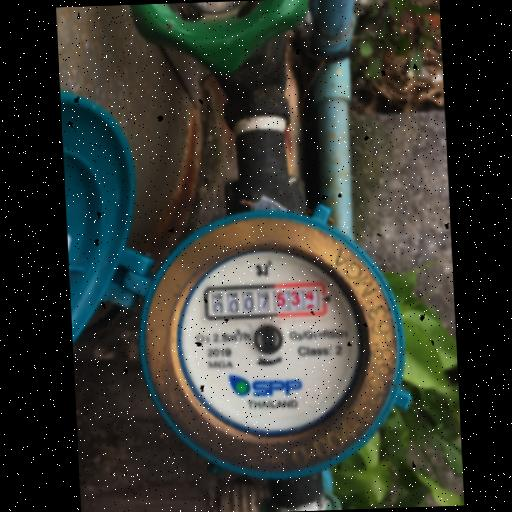0: (227, 293, 239, 313), (241, 293, 253, 313), (211, 294, 223, 313)
3: (289, 292, 301, 311)
4: (303, 291, 317, 310)
5: (274, 292, 286, 312)
7: (257, 292, 269, 312)
border_water_meter_number: (203, 282, 327, 320)
